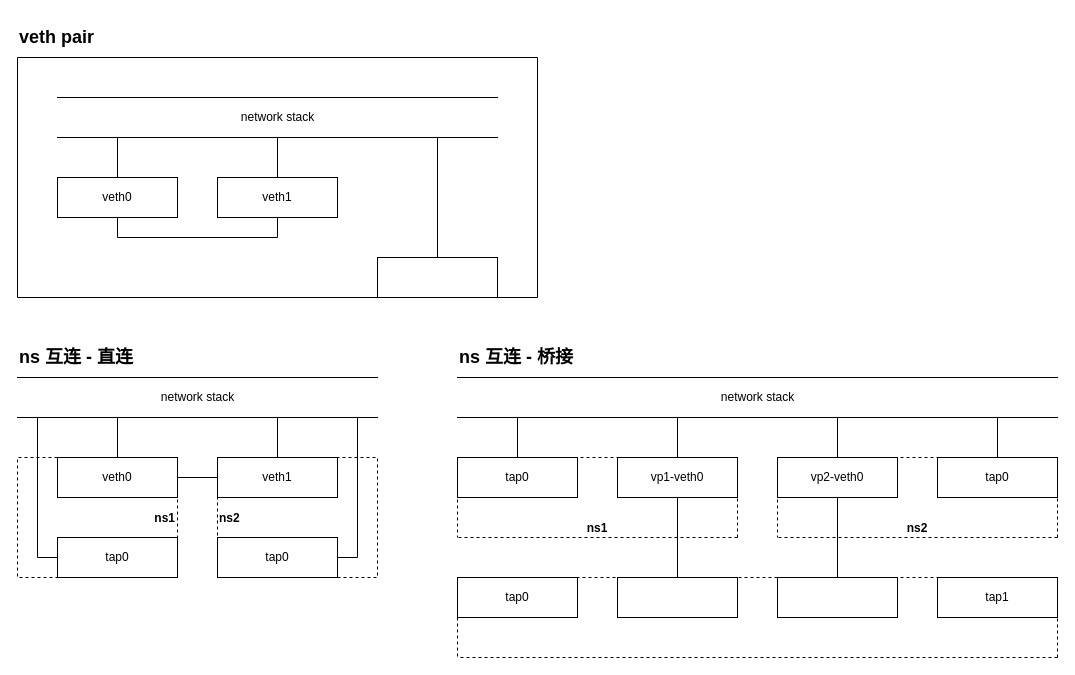
The diagram is 1075 pixels wide and 675 high, and some of its shapes have lost their labels. Here are the shapes that lost their labels. From the top down, the box of each, then its label:
(376, 256, 498, 298): eth0
(616, 576, 738, 618): vp1-veth1
(456, 576, 1058, 658): br0 linux_bridge or open_switch
(776, 576, 898, 618): vp2-veth1
